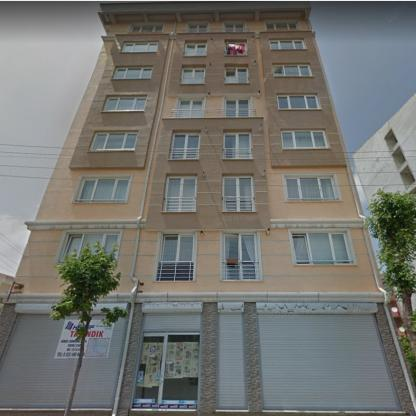door: (132, 332, 202, 411)
window: (56, 232, 121, 265), (291, 231, 353, 265), (154, 232, 196, 281), (221, 231, 262, 281), (285, 175, 338, 202), (74, 177, 131, 202), (222, 176, 254, 211), (164, 177, 196, 211), (281, 130, 329, 149), (90, 132, 136, 150), (223, 132, 252, 159), (170, 133, 200, 159), (102, 97, 145, 111), (278, 95, 319, 109), (175, 99, 203, 118), (273, 64, 311, 77), (224, 98, 251, 116), (113, 67, 152, 78), (128, 22, 164, 33), (264, 19, 300, 30), (225, 68, 249, 84), (180, 68, 204, 84), (121, 42, 157, 52), (270, 40, 304, 50), (185, 43, 205, 56), (223, 21, 245, 32), (186, 22, 209, 32)
